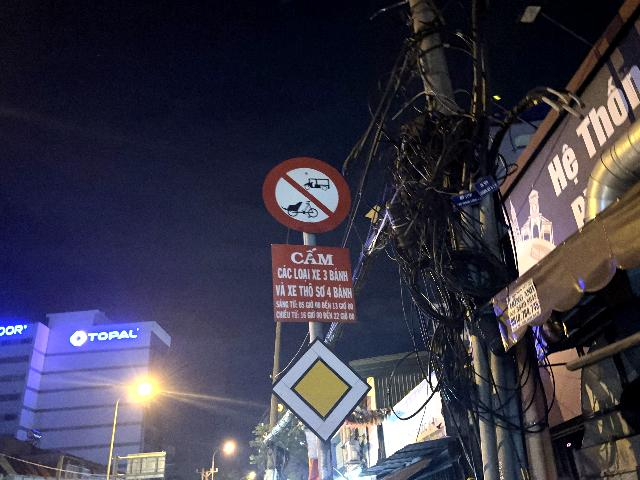bat-dau-duong-uu-tien: (271, 335, 372, 444)
cam-xe-3-banh-xe-tho-so-4-banh: (262, 156, 352, 234)
